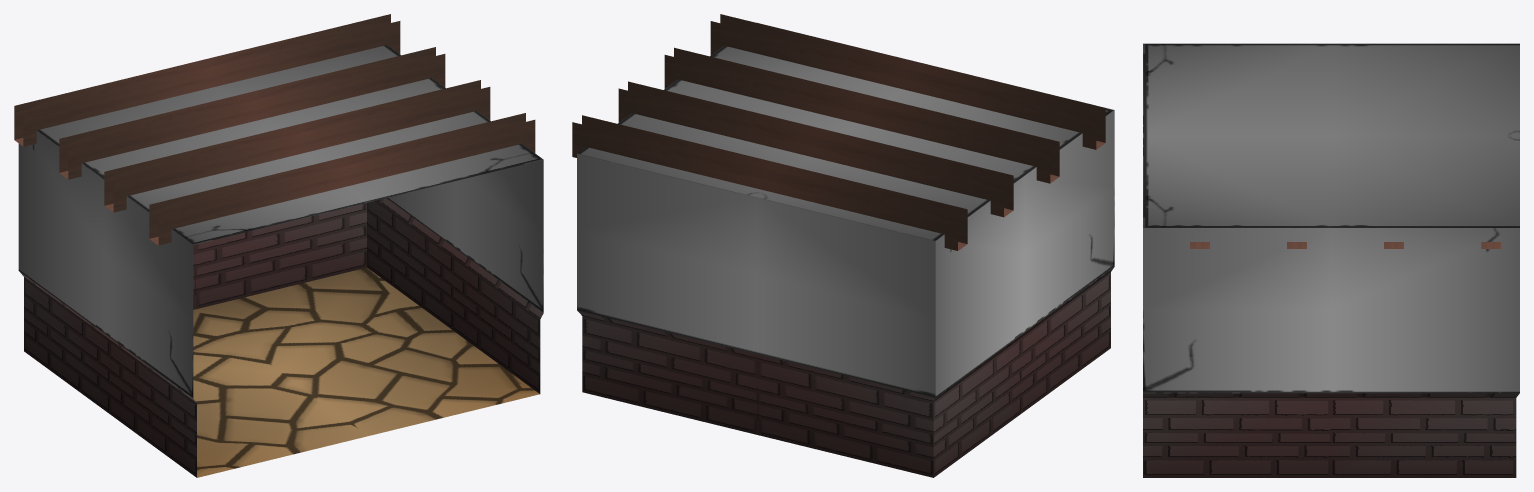
File: basement.glb
The picture shows the model from 3 angles, left to right: view 1: azimuth 30°, elevation 25°; view 2: azimuth 150°, elevation 25°; view 3: azimuth 270°, elevation 25°; orthographic projection. The views are drawn at different scales.
Parts seen in each view (by area): view 1: Cube; view 2: Cube; view 3: Cube.
Boxes of the visible parts, x1=… form: Cube: x1=14, y1=14, x2=543, y2=477; Cube: x1=572, y1=14, x2=1114, y2=477; Cube: x1=1143, y1=43, x2=1519, y2=477.
Bounding box in the file's own units: 5.3 × 3.42 × 4.26.
1 material, 1 textured.
